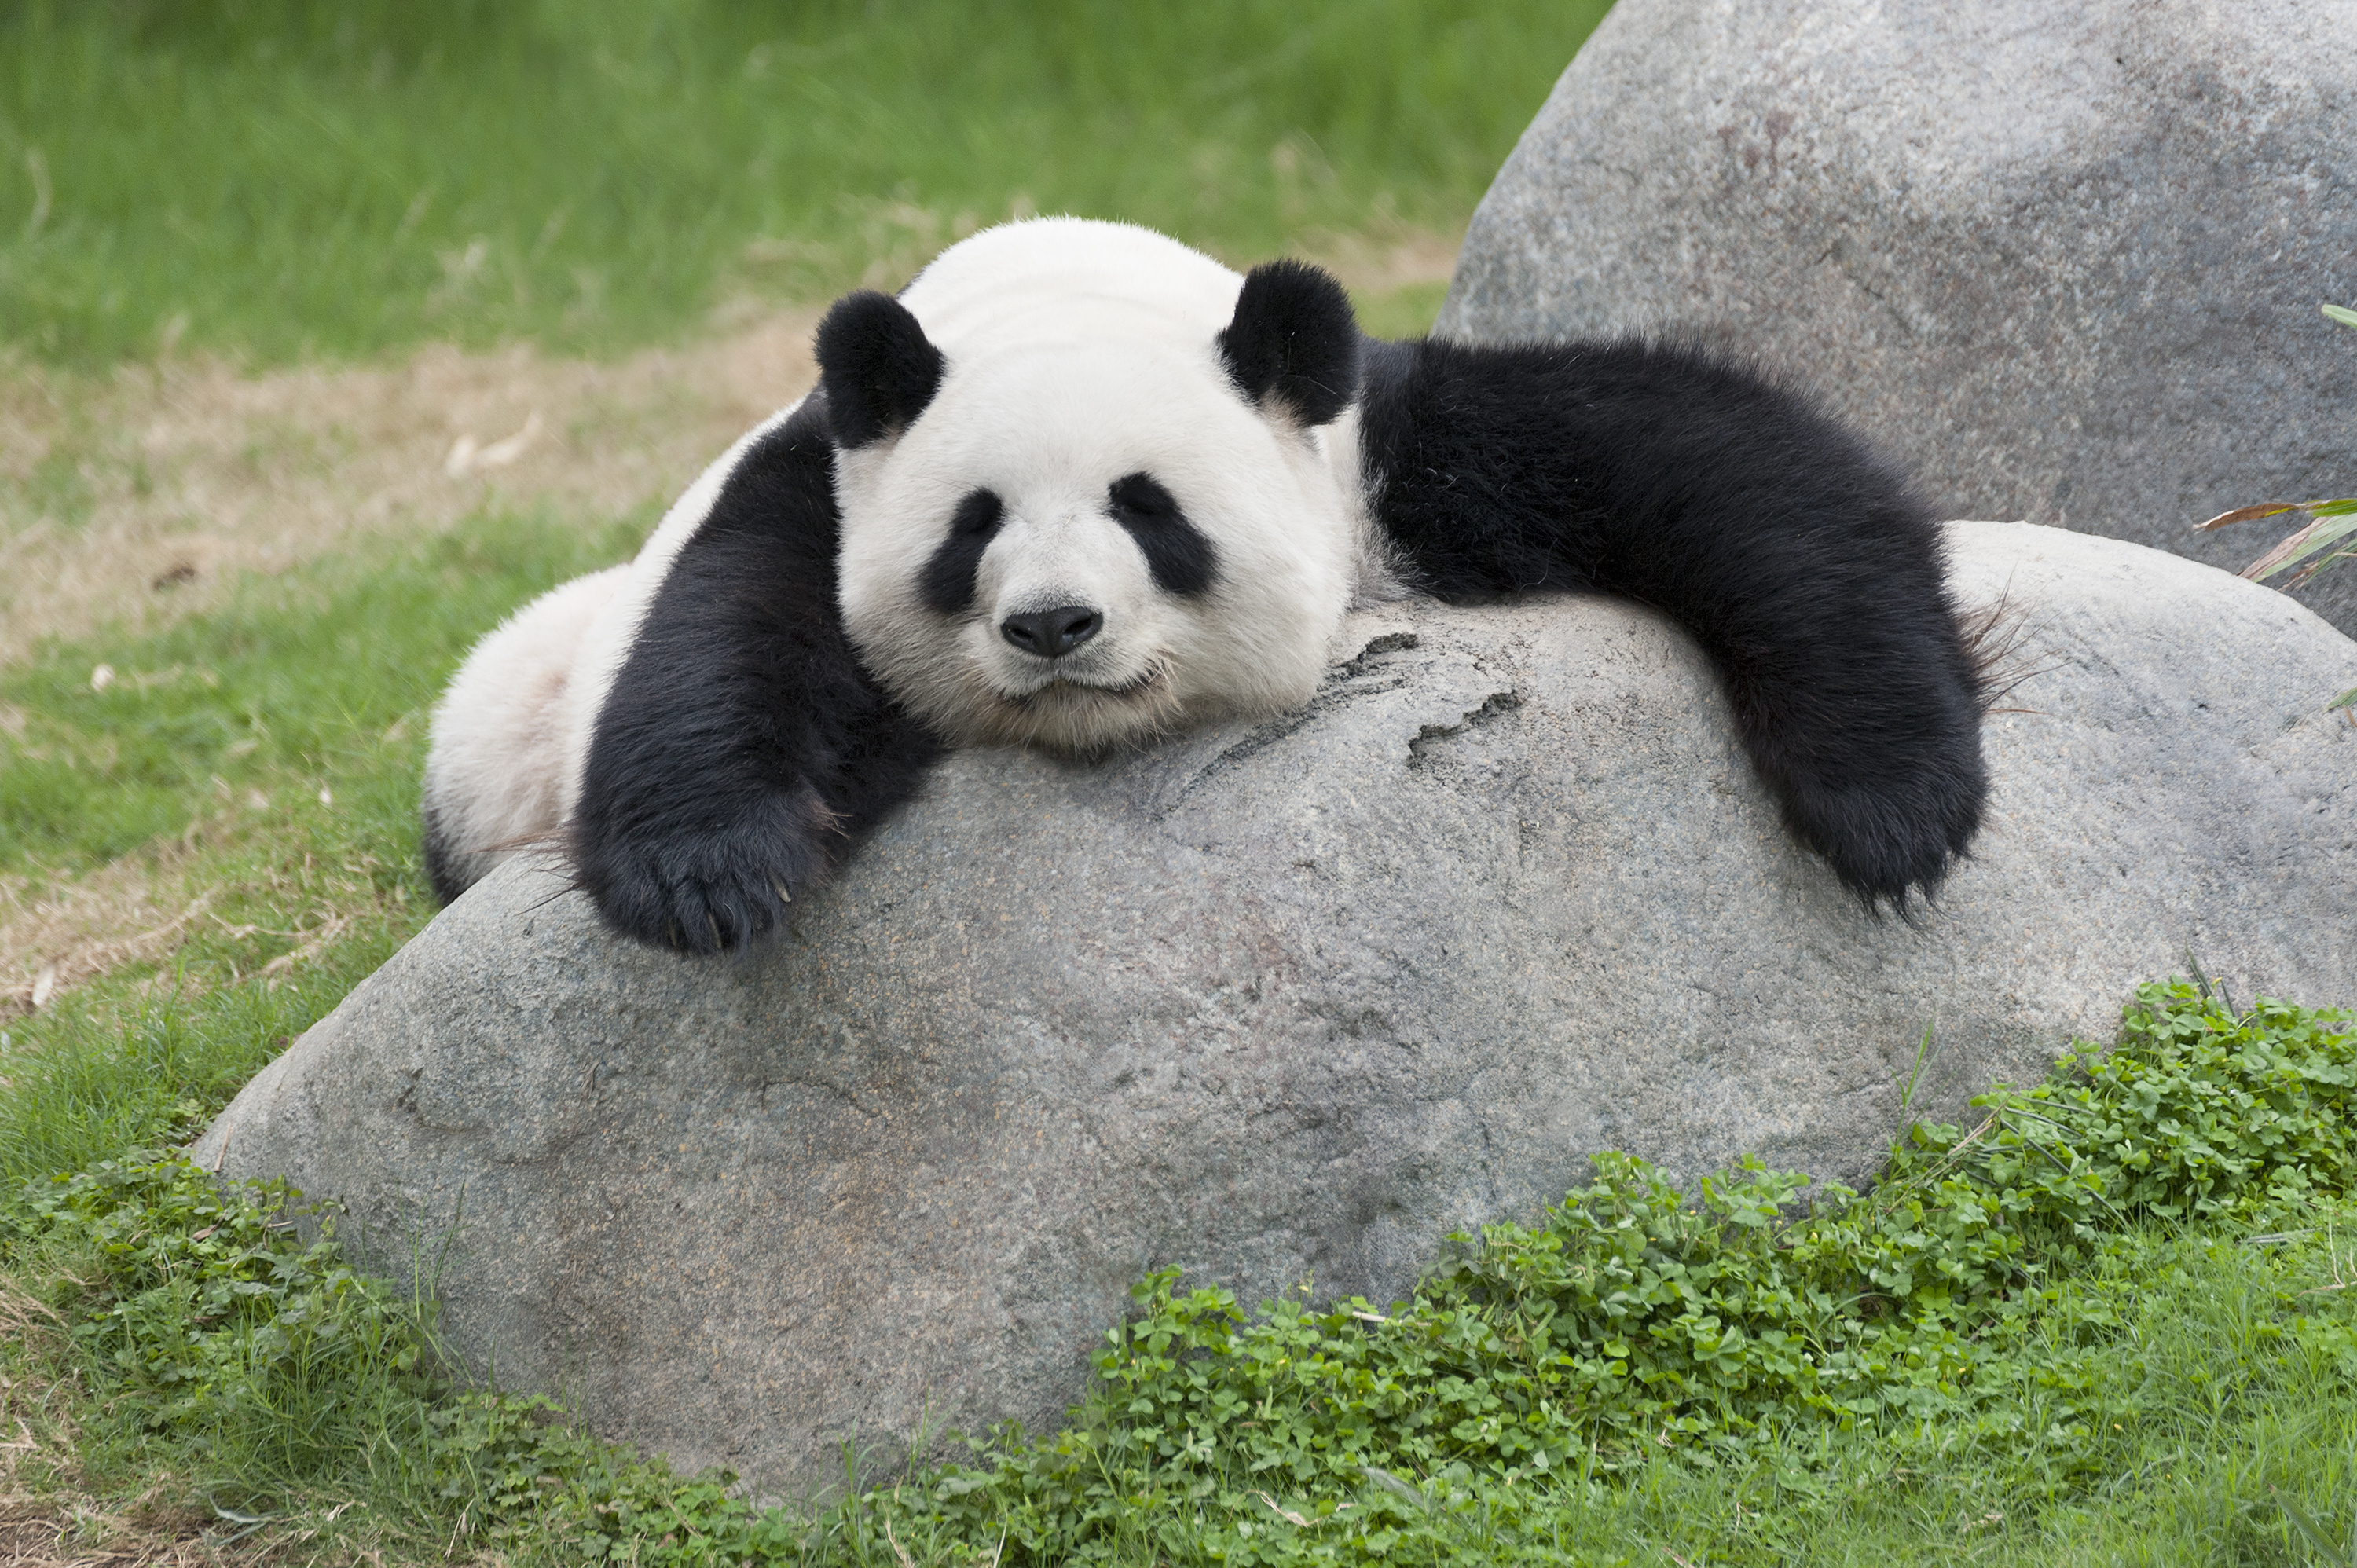panda: (441, 177, 2002, 989)
